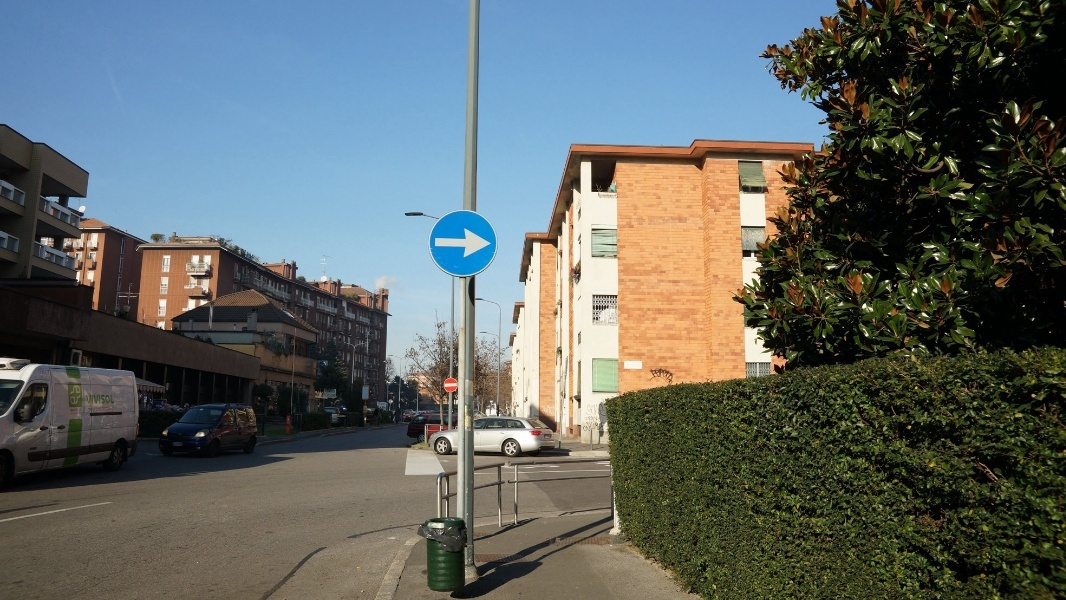text: (657, 365, 672, 388), (97, 394, 112, 405), (649, 365, 656, 388), (673, 365, 679, 388), (86, 394, 96, 405), (325, 388, 336, 394), (40, 369, 48, 376), (324, 394, 336, 398), (177, 442, 183, 446), (378, 403, 384, 406), (378, 406, 384, 409), (113, 394, 114, 405), (174, 442, 176, 446), (49, 369, 50, 376), (385, 403, 387, 406), (385, 406, 387, 409)
